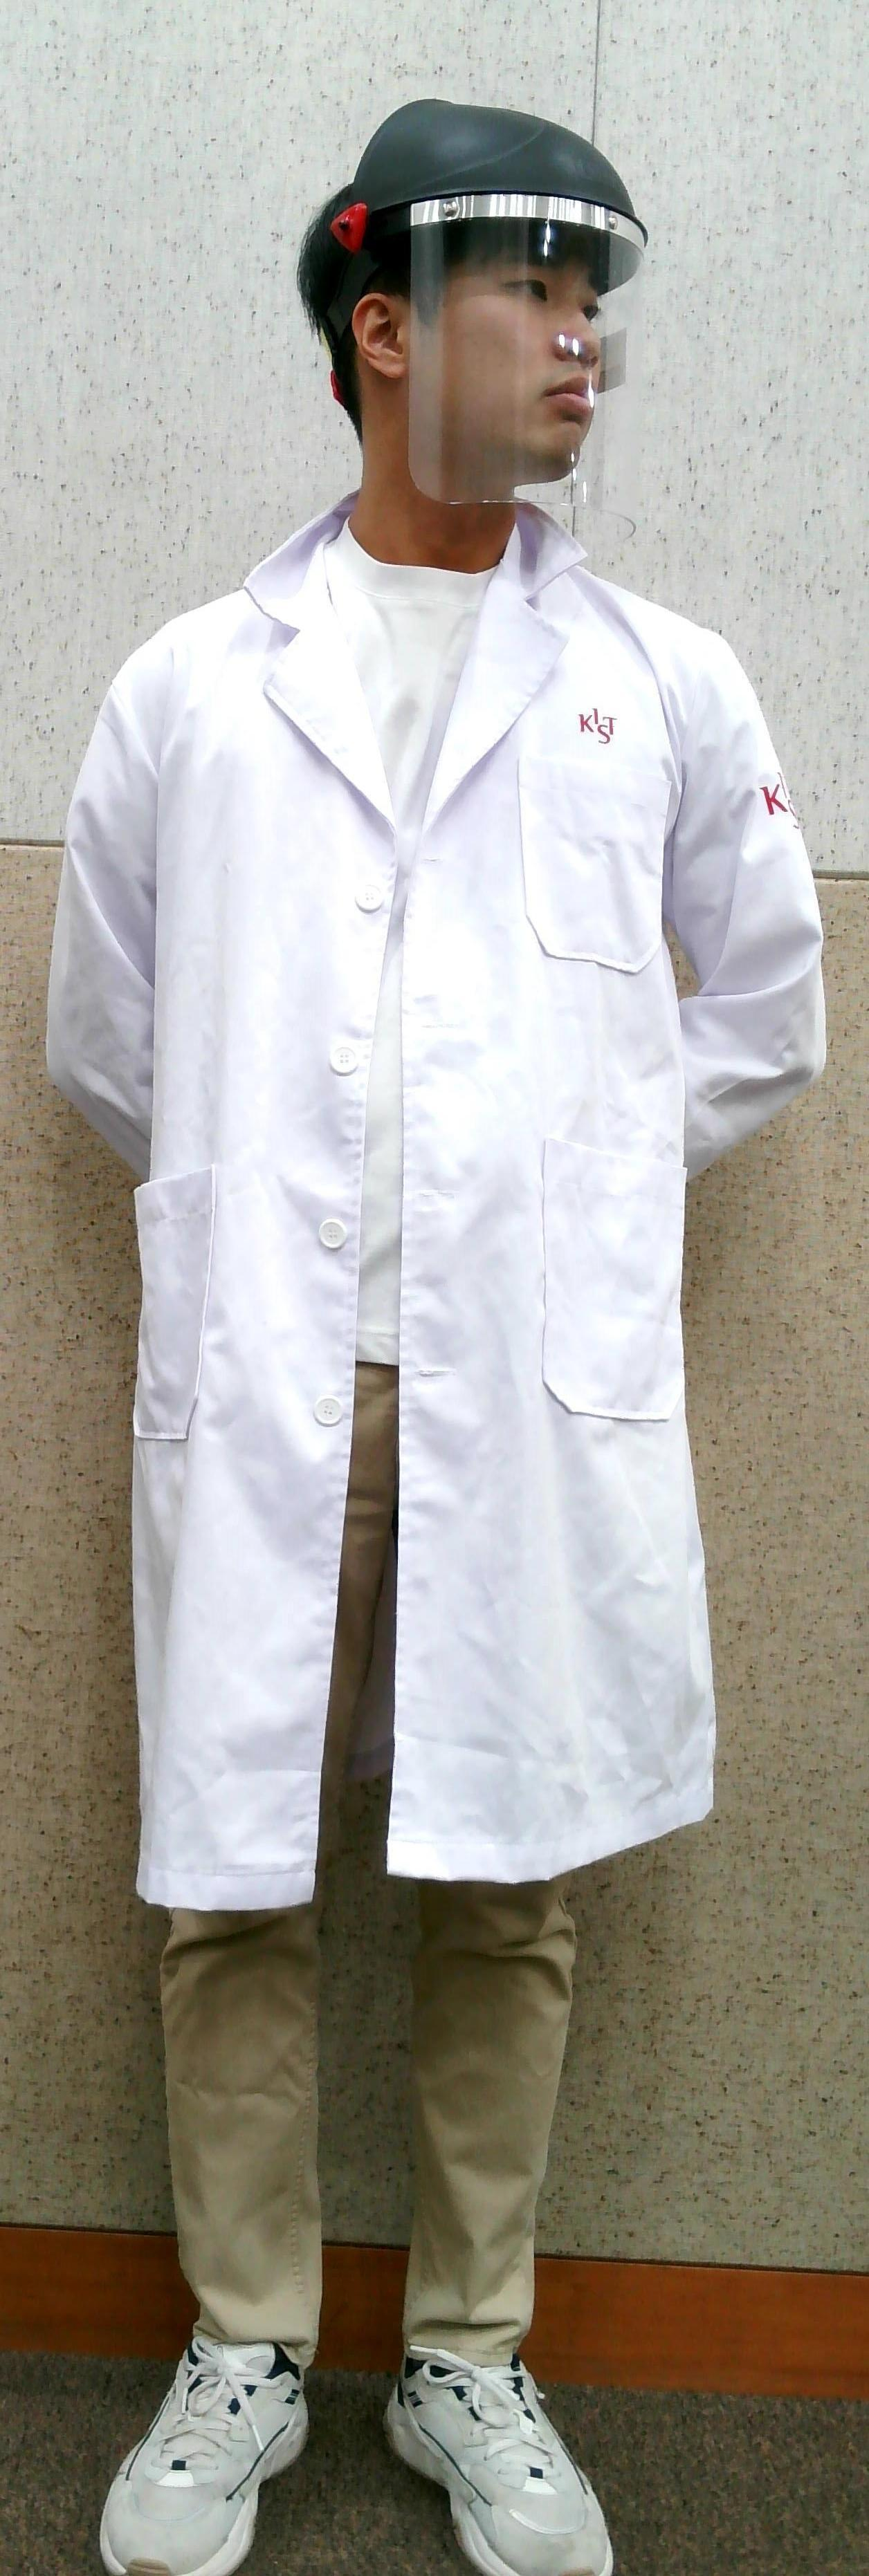lab_coat: (112, 637, 734, 1840)
